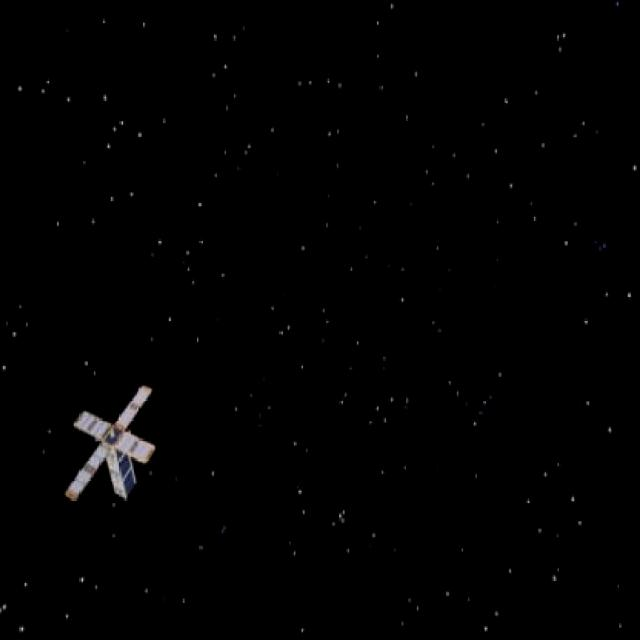satellite: (51, 387, 158, 508)
